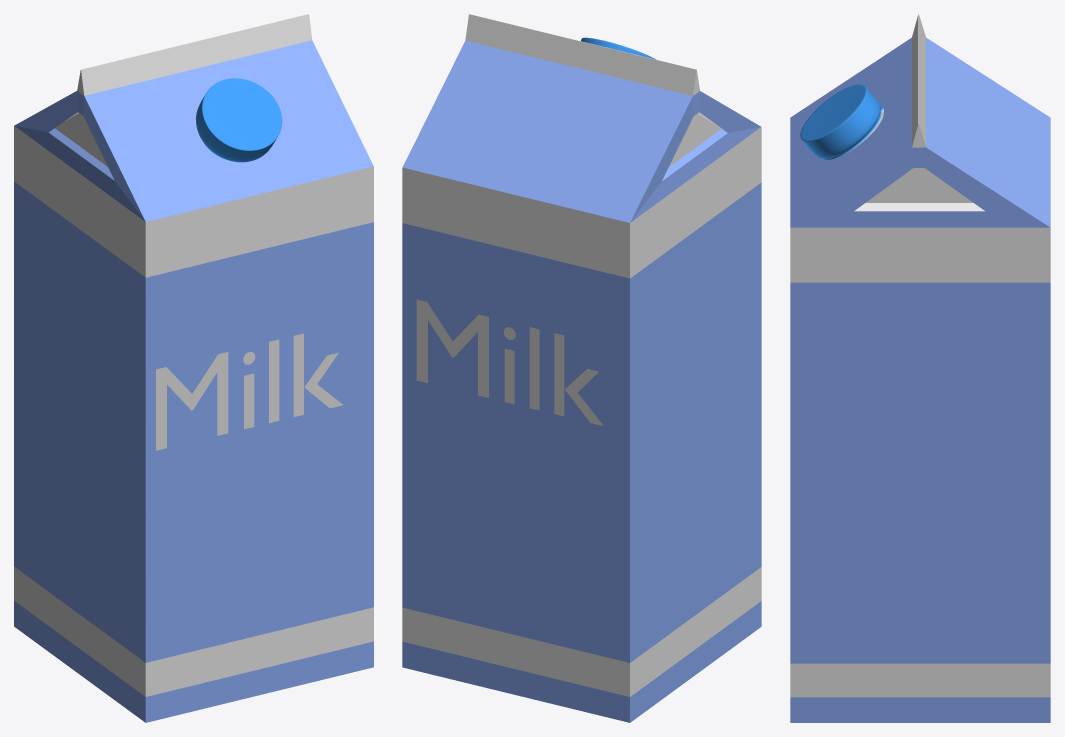
The model's file is boxMilkV.6.fbx.
3 renders of one model, left to right at view 1: azimuth 30°, elevation 25°; view 2: azimuth 150°, elevation 25°; view 3: azimuth 270°, elevation 25°, orthographic.
Visible parts, largest first — view 1: Cube, Text.001, Cylinder; view 2: Cube, Text; view 3: Cube, Cylinder.
Boxes of the visible parts, left/top/right/bottom form: Cube: left=14, top=14, right=373, bottom=722; Text.001: left=156, top=333, right=342, bottom=450; Cylinder: left=195, top=78, right=282, bottom=162; Cube: left=402, top=14, right=761, bottom=722; Text: left=416, top=299, right=603, bottom=425; Cube: left=790, top=14, right=1050, bottom=722; Cylinder: left=800, top=84, right=883, bottom=159.
Bounding box in the file's own units: 200 × 508 × 200.
